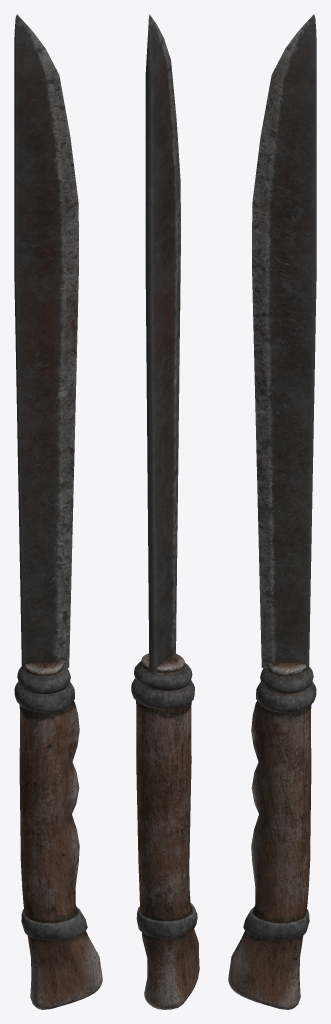
Rendered from machete.gltf.
3 views of the same model, side by side, from view 1: azimuth 90°, elevation 25°; view 2: azimuth 150°, elevation 25°; view 3: azimuth 270°, elevation 25° (orthographic).
Visible parts, largest first — view 1: machete; view 2: machete; view 3: machete.
Boxes of the visible parts, left/top/right/bottom form: machete: left=14, top=14, right=102, bottom=1009; machete: left=131, top=14, right=199, bottom=1009; machete: left=228, top=14, right=316, bottom=1009.
Size of the model in its own units: 0.0444 by 0.7548 by 0.0611.
1 material, 1 textured.
